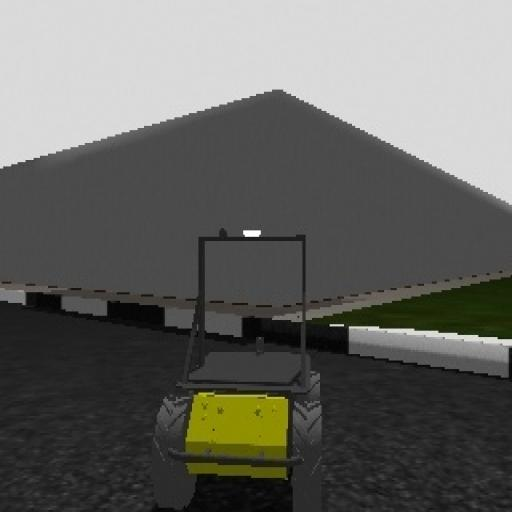huskya200: (153, 228, 324, 512)
